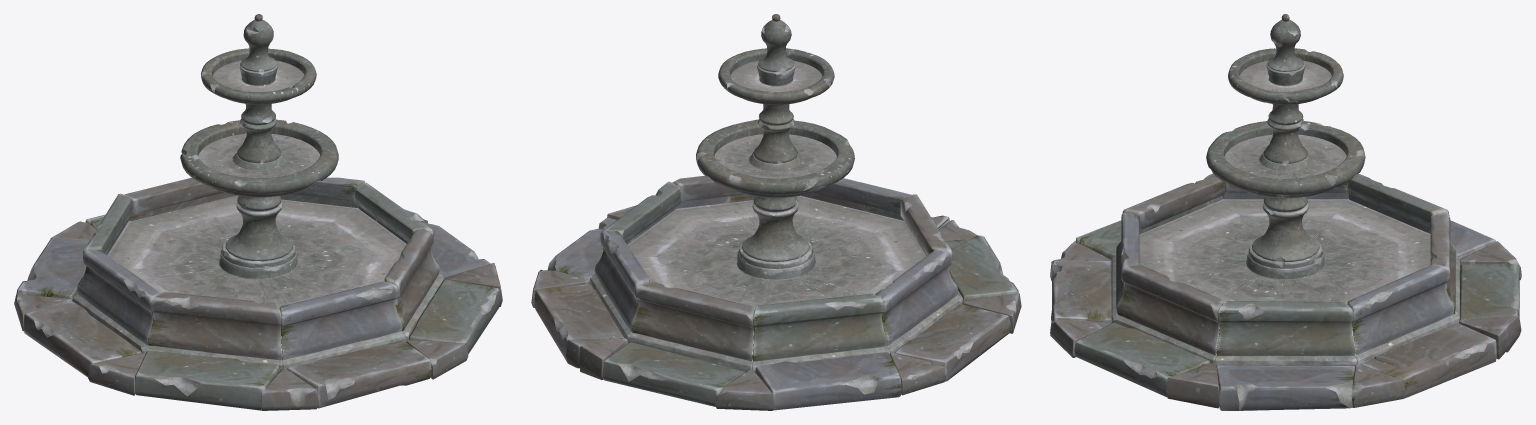
The picture shows the model from 3 angles, left to right: view 1: azimuth 30°, elevation 25°; view 2: azimuth 150°, elevation 25°; view 3: azimuth 270°, elevation 25°; orthographic projection.
Visible parts, largest first — view 1: SM_Castle_Fountain_01_v1_LOD0; view 2: SM_Castle_Fountain_01_v1_LOD0; view 3: SM_Castle_Fountain_01_v1_LOD0.
Part boxes in pixels (x1,y1,x2,y2): SM_Castle_Fountain_01_v1_LOD0: (14,14,502,410); SM_Castle_Fountain_01_v1_LOD0: (531,14,1021,410); SM_Castle_Fountain_01_v1_LOD0: (1050,14,1521,410).
Bounding box in the file's own units: 5.14 × 3.6 × 5.15.
Materials: 2 (2 with a texture image).
